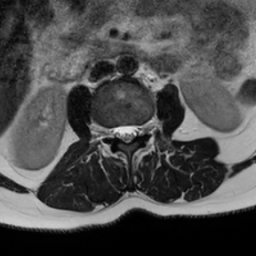CCS_normal: (121, 118, 130, 149)
LFS_normal: (139, 116, 147, 140)
LLS_normal: (130, 116, 139, 143)
RFS_normal: (104, 120, 115, 143)
RLS_normal: (114, 119, 122, 144)
